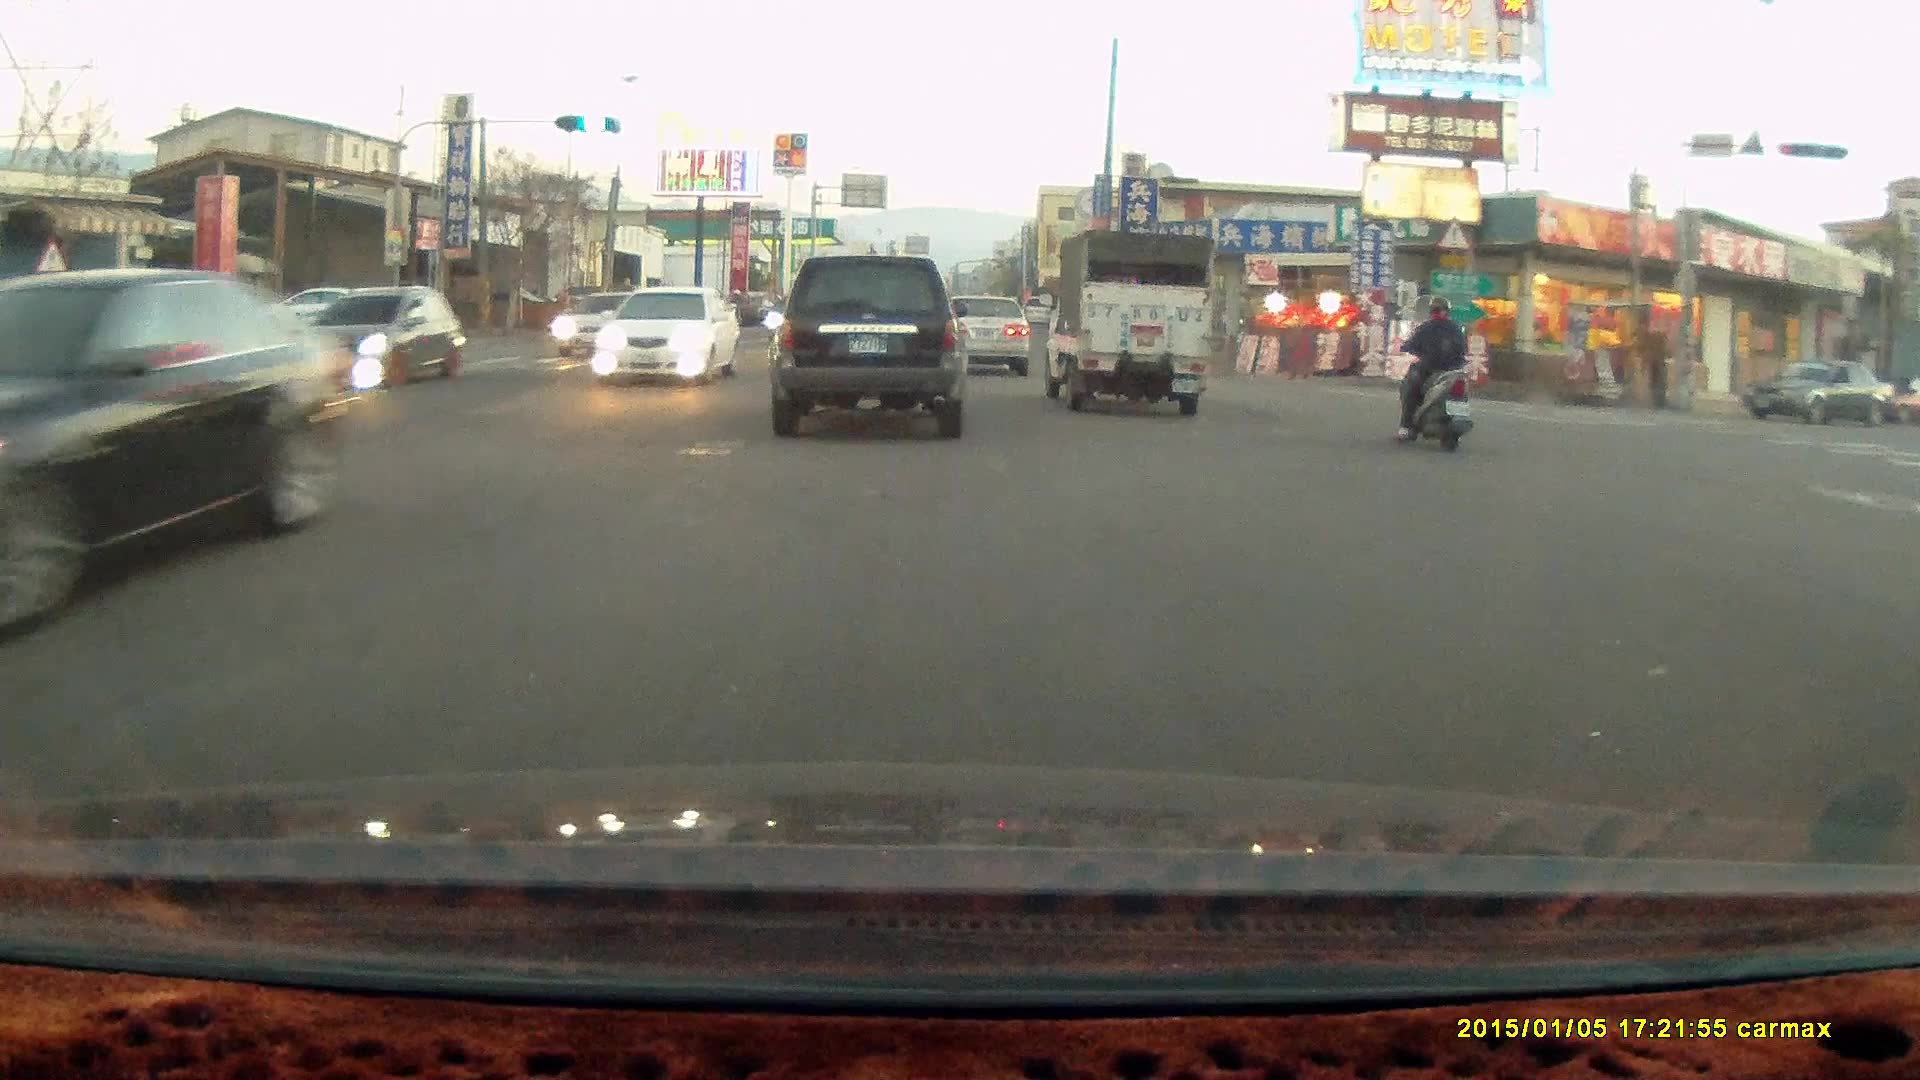rider: (1390, 290, 1476, 449)
vehicle: (1, 268, 355, 626), (766, 252, 969, 438), (1038, 227, 1214, 415), (280, 285, 467, 385), (596, 287, 742, 384), (1743, 359, 1898, 429), (929, 289, 1030, 375), (553, 288, 665, 364), (941, 293, 1034, 379), (262, 283, 388, 334)
